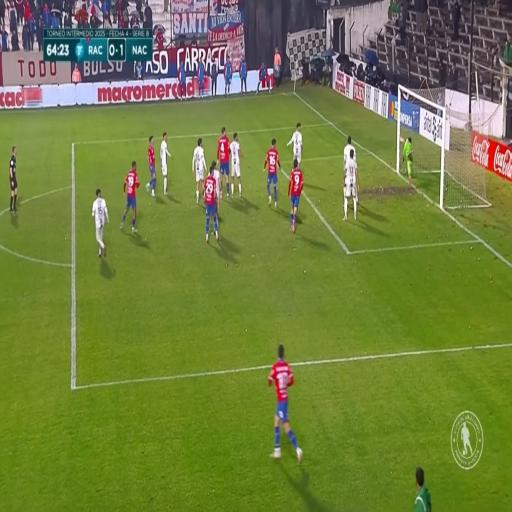Ball: (399, 135, 404, 144)
Goalkeeper: (404, 135, 413, 186)
Player: (267, 341, 304, 462), (91, 181, 108, 267), (343, 136, 359, 210), (123, 153, 136, 236), (192, 127, 206, 203), (265, 136, 279, 212), (203, 174, 218, 240), (288, 161, 302, 228), (217, 124, 229, 194), (288, 119, 303, 175), (230, 129, 242, 194), (209, 159, 221, 215), (159, 130, 169, 194), (146, 134, 156, 194), (347, 152, 355, 218)
Referee: (6, 145, 23, 217)
